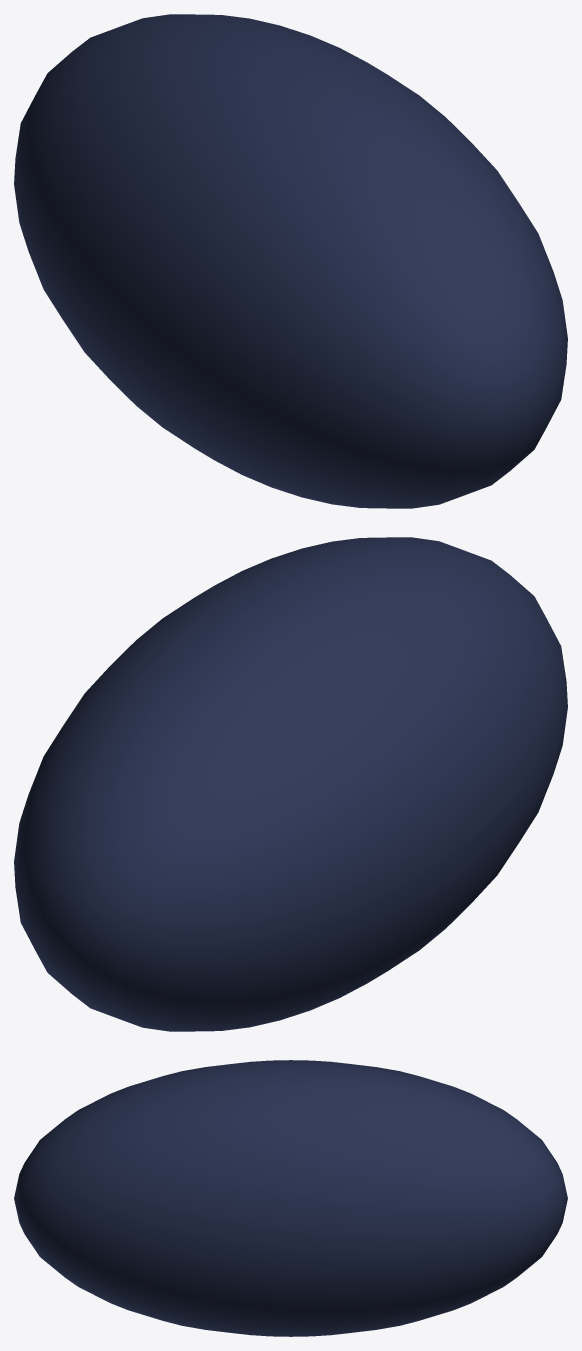
The model's file is bomb.fbx.
3 views of the same model, one above another, from view 1: azimuth 30°, elevation 25°; view 2: azimuth 150°, elevation 25°; view 3: azimuth 270°, elevation 25° (orthographic). The views are drawn at different scales.
Parts seen in each view (by area): view 1: Sphere.001; view 2: Sphere.001; view 3: Sphere.001.
Part boxes in pixels (box(x1,y1,x2,y2)): Sphere.001: box(14, 14, 567, 508); Sphere.001: box(14, 537, 567, 1031); Sphere.001: box(14, 1060, 567, 1336).
Size of the model in its own units: 16 by 16 by 32.
